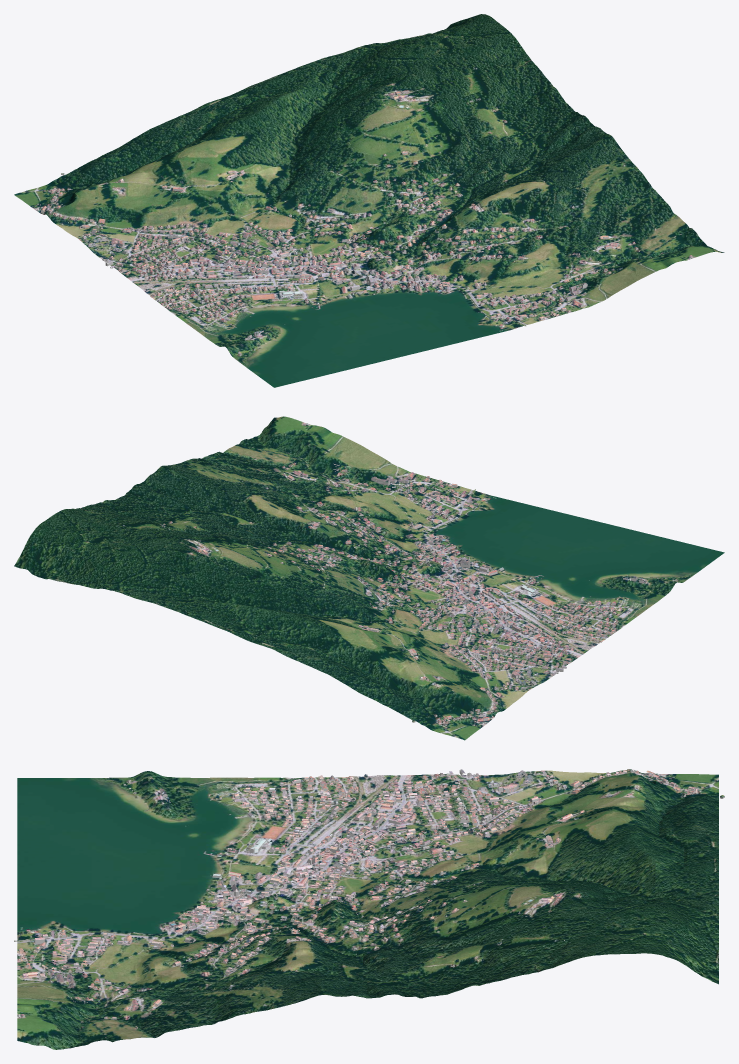
The model's file is asset.glb.
The picture shows the model from 3 angles, top to bottom: view 1: azimuth 30°, elevation 25°; view 2: azimuth 150°, elevation 25°; view 3: azimuth 270°, elevation 25°; orthographic projection. The views are drawn at different scales.
Visible parts, largest first — view 1: DGM_Schliersee_10m, Dach, Wand; view 2: DGM_Schliersee_10m, Dach, Wand; view 3: DGM_Schliersee_10m, Dach, Wand.
Boxes of the visible parts, <box> form: DGM_Schliersee_10m: <box>14,14,724,387</box>; Dach: <box>32,67,691,355</box>; Wand: <box>33,68,692,355</box>; DGM_Schliersee_10m: <box>14,416,724,740</box>; Dach: <box>122,423,677,727</box>; Wand: <box>124,424,677,728</box>; DGM_Schliersee_10m: <box>17,769,718,1049</box>; Dach: <box>14,769,724,1037</box>; Wand: <box>14,770,724,1037</box>.
Size of the model in its own units: 2005 by 511 by 2016.
7 materials, 3 textured.
